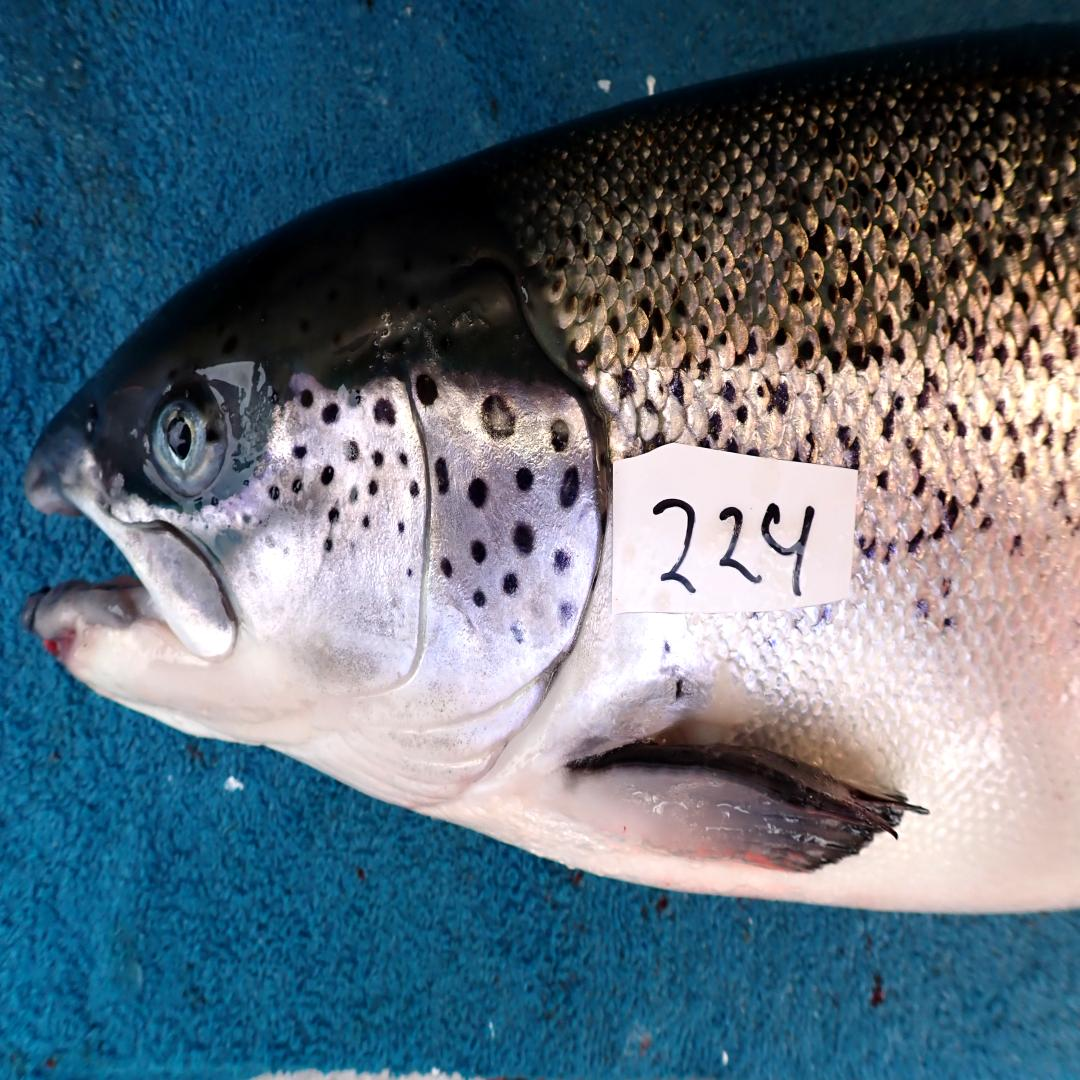roi: (228, 363, 608, 817)
